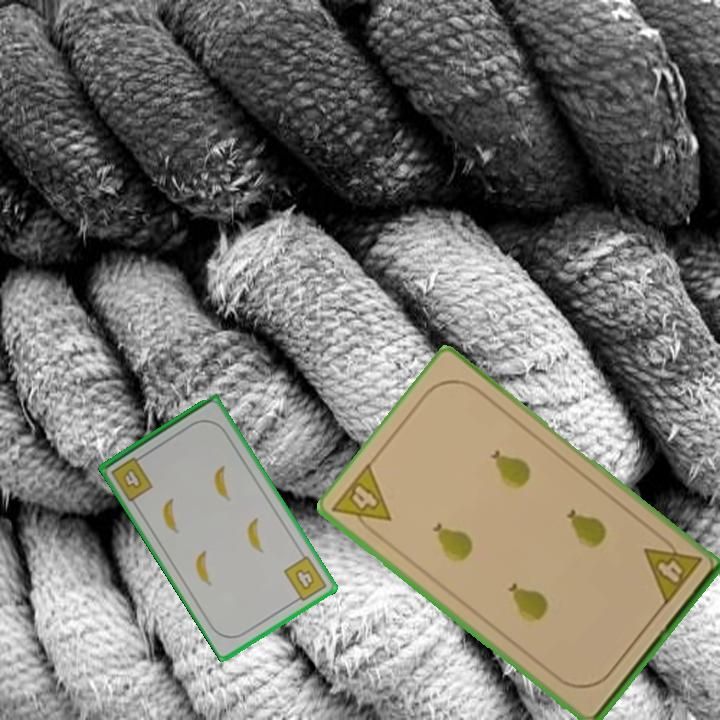4b: (280, 552, 330, 606), (108, 451, 156, 504)
4p: (328, 460, 395, 542), (640, 530, 704, 608)
